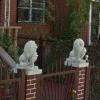Statue: (12, 35, 40, 88)
